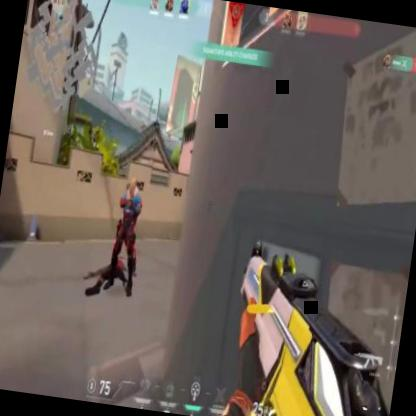enemy: (100, 174, 150, 298)
enemy_head: (126, 176, 138, 194)
